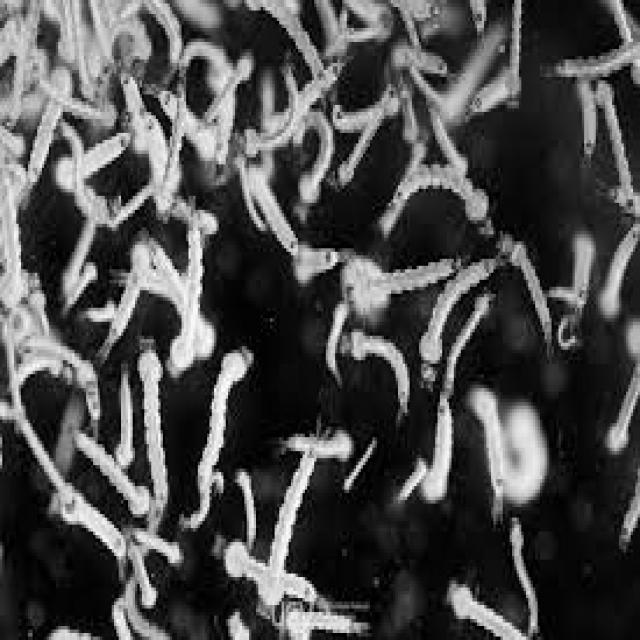larvas: (179, 347, 248, 529), (230, 63, 344, 151), (421, 259, 493, 390), (474, 388, 548, 502), (380, 167, 494, 239), (211, 530, 319, 603), (259, 451, 306, 617), (423, 22, 503, 114), (331, 87, 398, 187), (153, 248, 216, 354), (17, 338, 99, 419), (497, 233, 551, 347), (167, 197, 200, 380), (76, 432, 152, 511), (341, 333, 410, 414), (252, 2, 326, 76), (62, 130, 124, 218), (346, 264, 461, 311), (50, 490, 127, 558), (138, 336, 168, 501), (449, 578, 527, 640), (18, 409, 72, 498), (442, 292, 488, 393), (30, 59, 68, 181), (246, 168, 298, 255), (474, 391, 506, 532), (292, 109, 331, 222), (609, 326, 640, 454), (510, 516, 542, 639), (555, 38, 640, 84), (52, 134, 131, 183), (600, 88, 632, 205), (600, 222, 638, 318), (158, 94, 218, 152), (420, 390, 448, 506), (57, 214, 97, 293), (124, 576, 173, 640), (276, 605, 364, 640), (8, 200, 36, 310), (102, 272, 140, 351), (604, 4, 640, 86), (554, 233, 594, 306), (209, 54, 254, 115), (157, 112, 184, 208), (54, 96, 132, 129), (145, 1, 184, 63), (322, 294, 350, 380), (112, 21, 150, 80), (182, 40, 227, 84), (335, 98, 395, 131), (40, 4, 74, 62), (116, 364, 135, 467), (508, 0, 526, 107), (232, 466, 256, 546), (128, 542, 157, 608), (293, 241, 349, 275), (171, 194, 217, 235), (392, 76, 420, 142), (393, 0, 441, 38), (0, 305, 18, 405), (346, 2, 391, 42), (315, 0, 346, 56), (434, 121, 469, 170), (125, 236, 157, 288), (474, 64, 509, 110), (346, 441, 378, 491), (386, 49, 447, 75), (18, 267, 38, 345), (131, 533, 184, 562), (183, 0, 230, 31), (624, 462, 640, 550), (66, 263, 97, 308), (579, 83, 598, 153), (289, 436, 352, 456), (121, 180, 152, 218), (216, 92, 228, 182), (402, 456, 426, 498), (401, 142, 428, 178), (115, 592, 134, 639), (222, 613, 255, 640), (0, 182, 9, 276), (45, 626, 100, 640), (0, 129, 24, 160), (557, 316, 578, 351), (82, 306, 116, 322), (470, 0, 487, 29)
